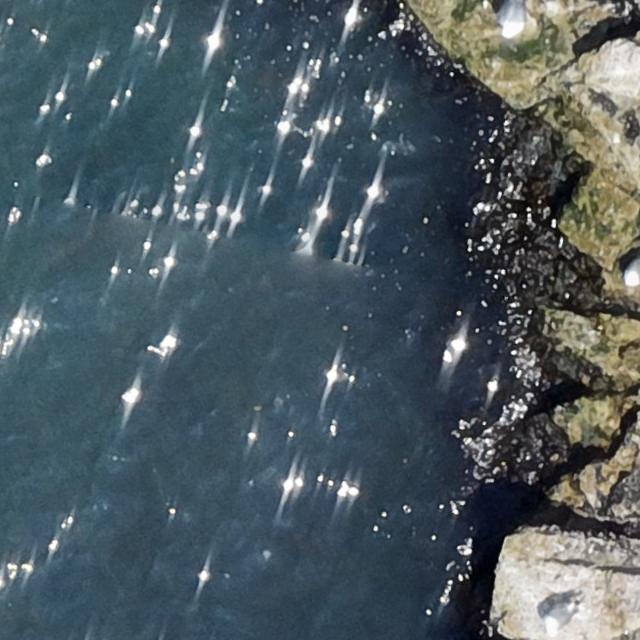umineko: (546, 597, 585, 640), (498, 1, 528, 40), (624, 256, 640, 284)
